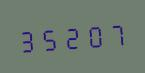five: (40, 22, 61, 53)
seven: (106, 17, 127, 49)
three: (18, 23, 39, 55)
two: (62, 20, 83, 52)
zero: (84, 19, 105, 50)
